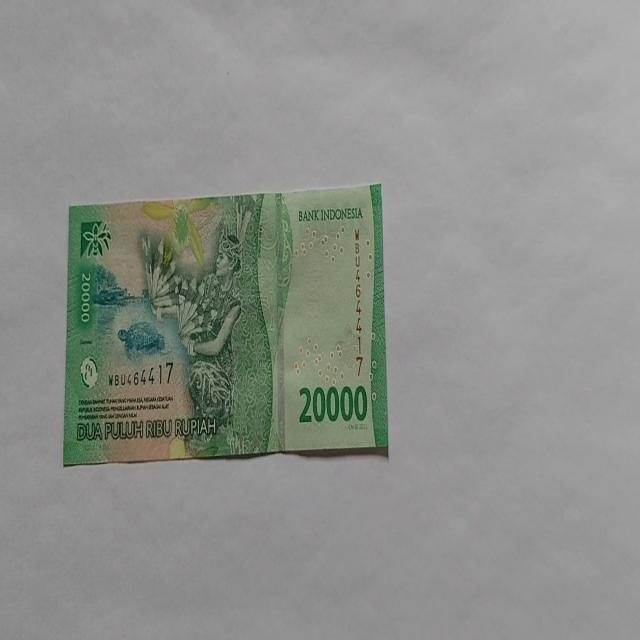dua puluh ribu rupiah: (62, 182, 390, 466)
